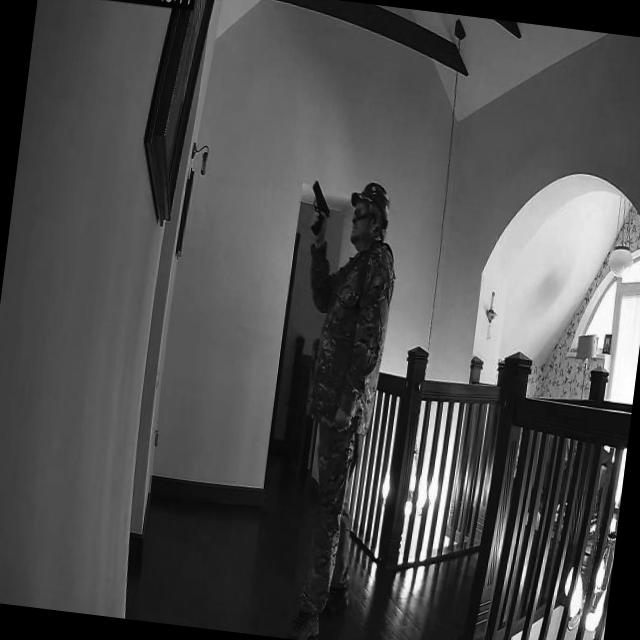gun: (306, 179, 334, 238)
person with a gun: (280, 173, 399, 640)
